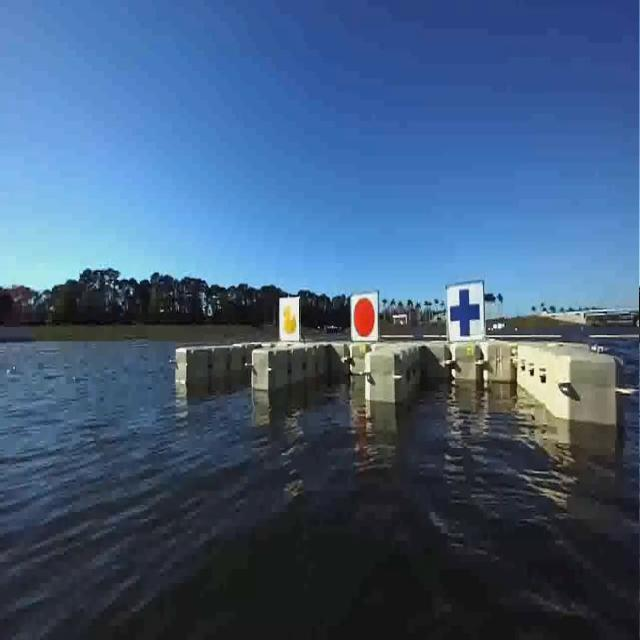blue-cross: (444, 288, 487, 343)
red-dot: (351, 296, 380, 340)
yellow-duck: (279, 294, 299, 344)
